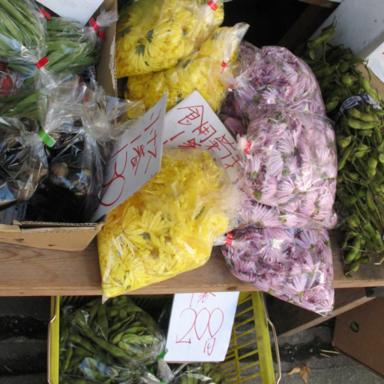plasticbag: (0, 0, 326, 383)
